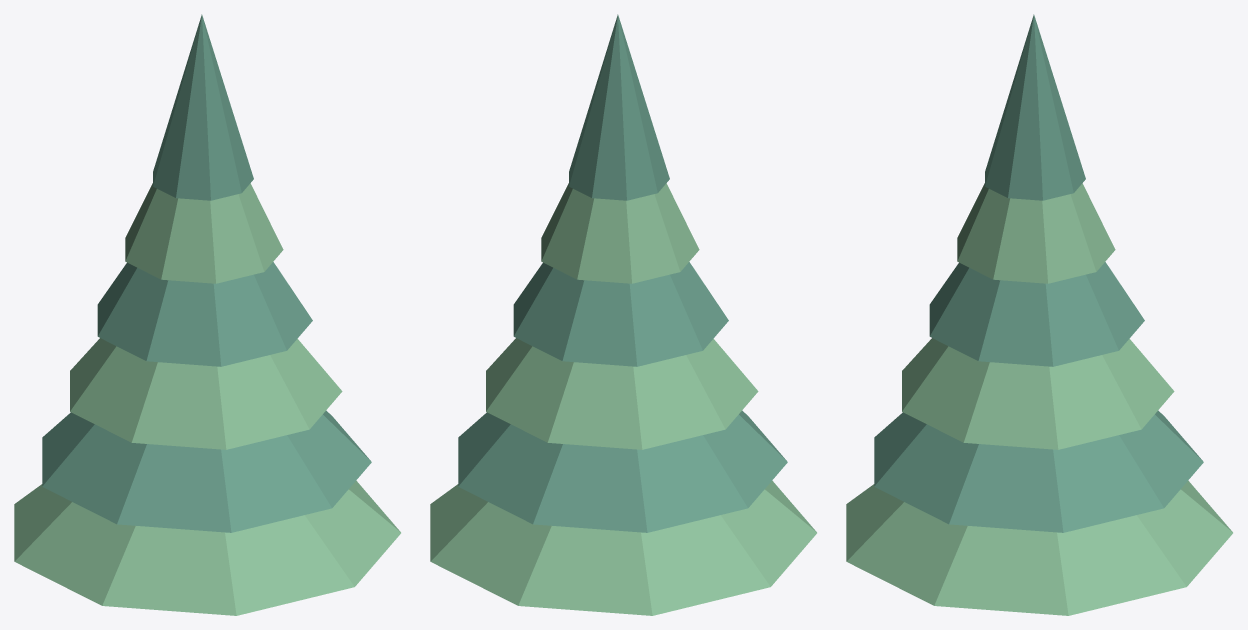
The model's file is fir.glb.
3 views of the same model, side by side, from view 1: azimuth 30°, elevation 25°; view 2: azimuth 150°, elevation 25°; view 3: azimuth 270°, elevation 25° (orthographic).
Parts seen in each view (by area): view 1: fir_001, fir_002, fir_003, fir_004, fir_005, fir_006; view 2: fir_001, fir_002, fir_003, fir_004, fir_005, fir_006; view 3: fir_001, fir_002, fir_003, fir_004, fir_005, fir_006.
Part boxes in pixels (x1,y1,x2,y2): fir_001: (14,480,400,615); fir_002: (42,410,371,532); fir_003: (70,338,342,449); fir_004: (97,262,312,366); fir_005: (125,183,283,283); fir_006: (153,14,253,200); fir_001: (430,480,816,615); fir_002: (458,410,787,532); fir_003: (486,338,758,449); fir_004: (513,262,728,366); fir_005: (541,183,699,283); fir_006: (569,14,669,200); fir_001: (846,480,1232,615); fir_002: (874,410,1203,532); fir_003: (902,338,1174,449); fir_004: (929,262,1144,366); fir_005: (957,183,1115,283); fir_006: (985,14,1085,200).
Bounding box in the file's own units: 2.27 × 3.62 × 2.23.
